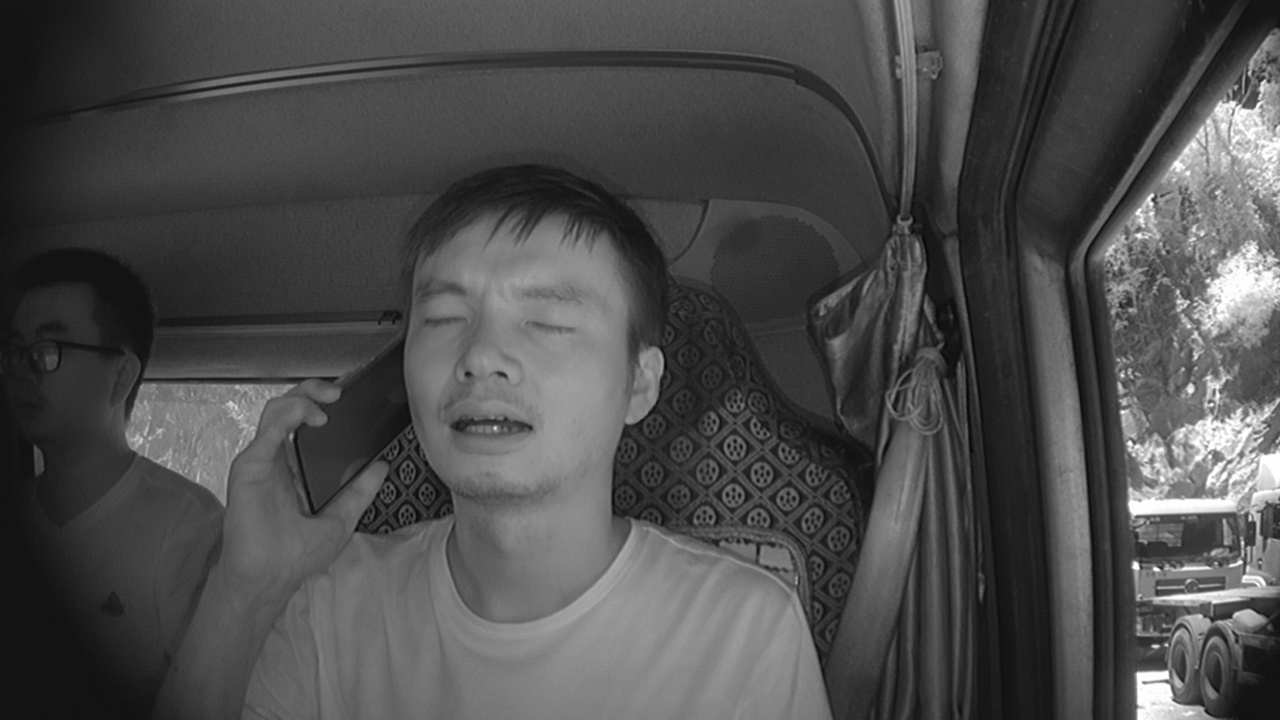hand: (226, 374, 377, 584)
